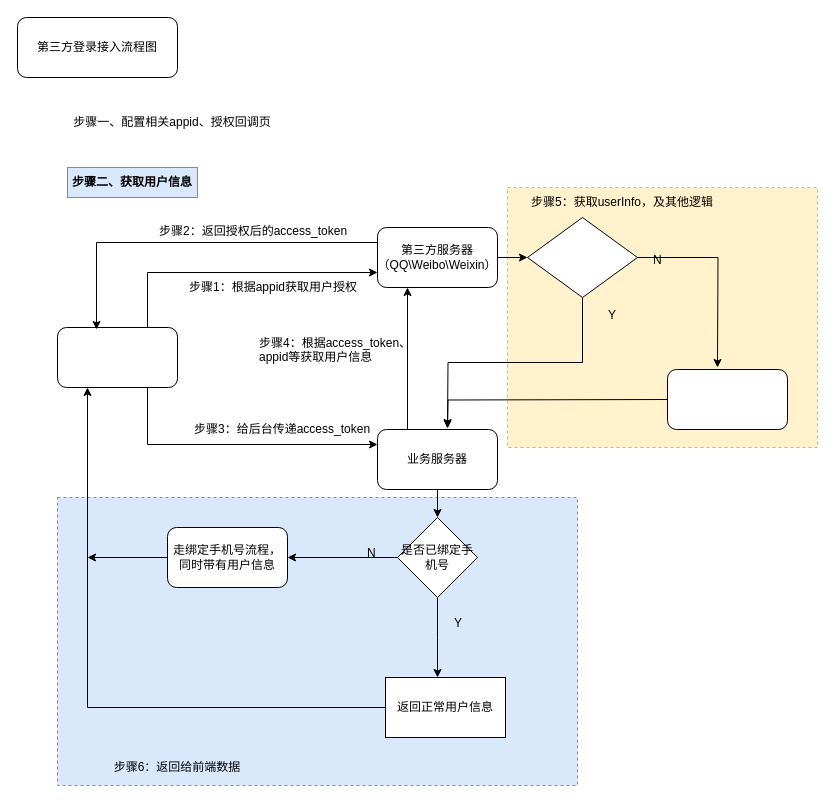
Some shapes in this 835 by 803 pixel diagram are drawn without their labels. The centre of each missing label's shape, as x and y in pixels:
"WEB-PC客户端" goes at (x=117, y=357).
"创建新用户" goes at (x=727, y=399).
"是否库中有数据？" goes at (x=582, y=257).
